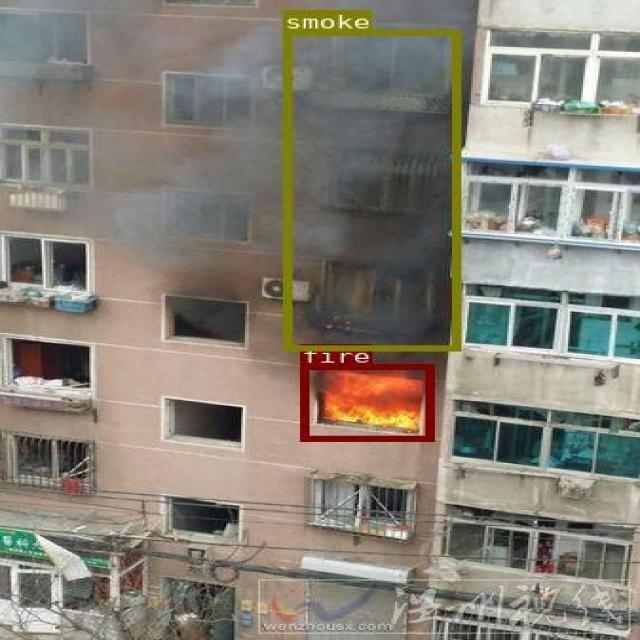fire: (300, 363, 431, 441)
smoke: (283, 29, 459, 350)
